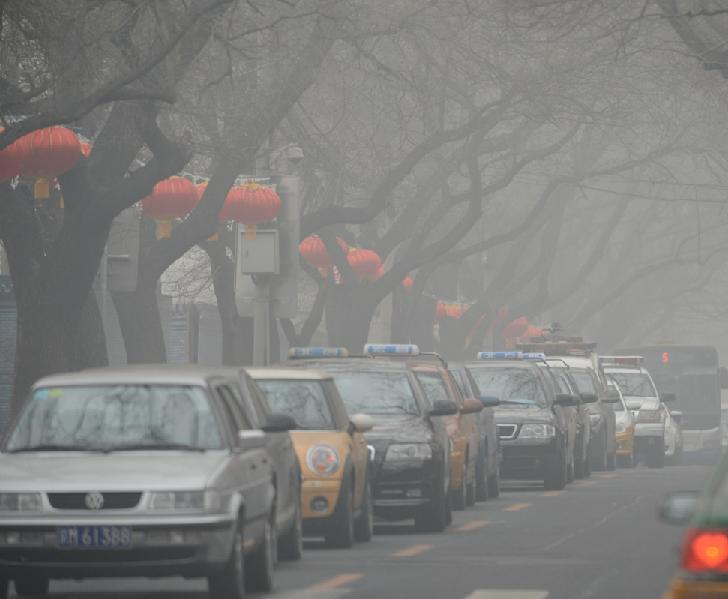car: (1, 363, 279, 599), (67, 357, 305, 587), (292, 359, 457, 540), (223, 367, 376, 554), (346, 341, 482, 511), (456, 357, 582, 490), (409, 358, 500, 505), (497, 356, 599, 484), (591, 350, 678, 468), (546, 363, 621, 469)
